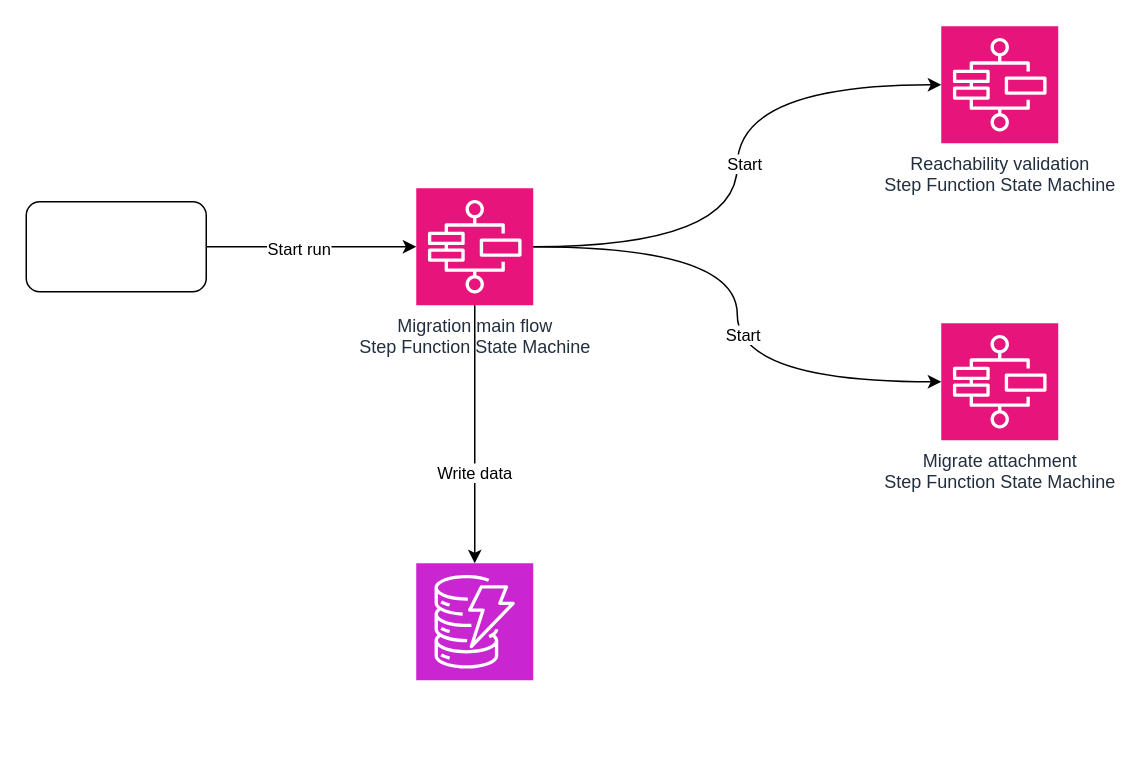
Image size: 1142x761. Some labels were removed from this diagram. The box of each missing label's shape, as (x1, y1, x2, y2) in pixels:
Execution input: (25, 200, 206, 292)
Migration information DynamoDB Table: (415, 562, 533, 680)
